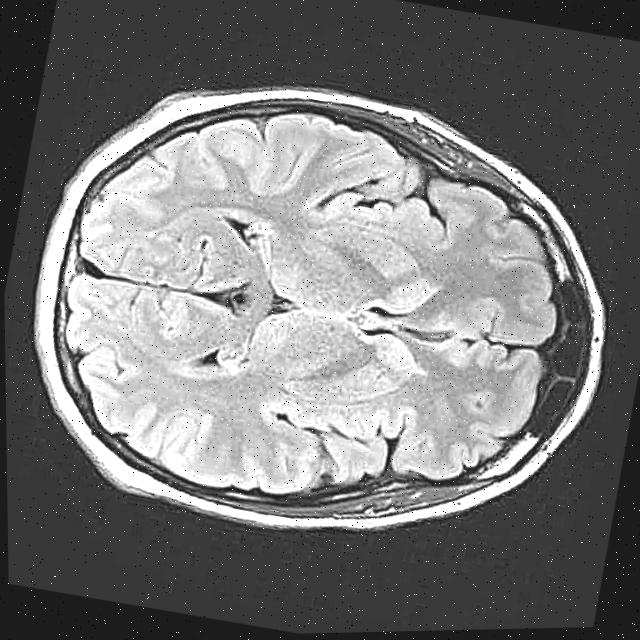NoTumor: (1, 30, 640, 598)
